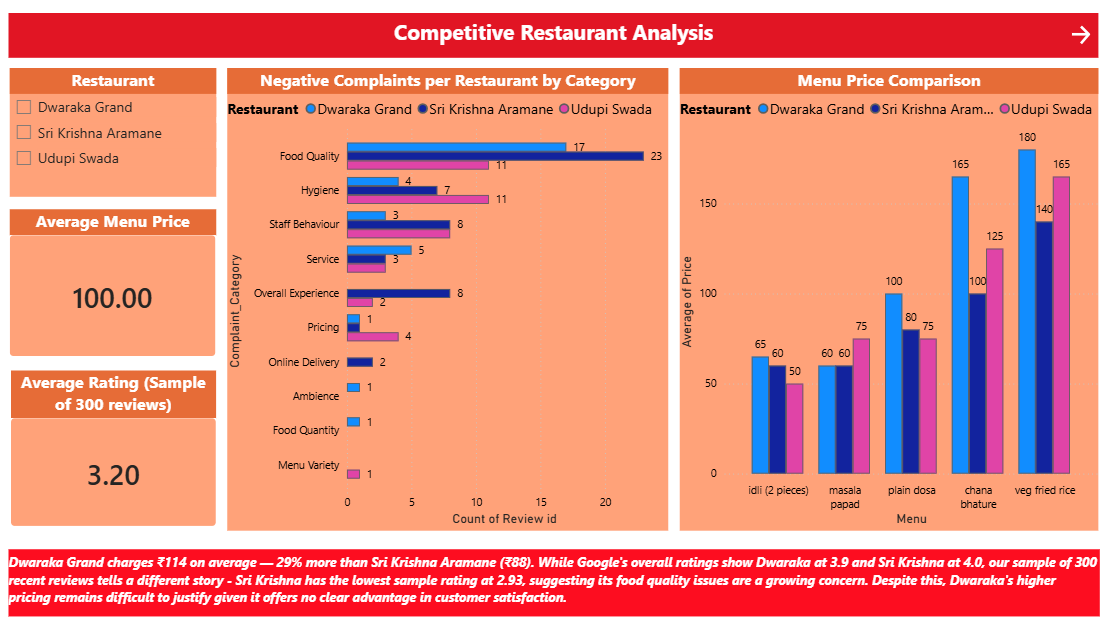

What the dashboard file says about the page in this screenshot:
{"tool":"powerbi","page":{"name":"Page 3","canvas":[1280,720],"ordinal":2},"visuals":[{"type":"slicer","title":"Restaurant","fields":{"Values":["Restaurant_lookup.Restaurant"]},"box":[15.7,80,235.7,147.1],"z":0},{"type":"clusteredColumnChart","title":"Menu Price Comparison ","fields":{"Category":["Menu.Menu"],"Series":["Menu.Restaurant"],"Y":["Avg(Menu.Price)"]},"box":[781.4,80,478.6,528.6],"z":1000},{"type":"textbox","box":[14.3,17.1,1245.7,51.4],"z":2000},{"type":"clusteredBarChart","title":"Negative Complaints per Restaurant by Category","fields":{"Category":["Review.Complaint_Category"],"Y":["Count(Review.Review id)"],"Series":["Review.Restaurant"]},"box":[264.3,80,504.3,528.6],"z":3000},{"type":"actionButton","box":[1224.3,27.1,37.1,30],"z":4000},{"type":"textbox","box":[14.3,630,1247.1,77.1],"z":5000},{"type":"cardVisual","title":"Average Menu Price","fields":{"Data":["Avg(Menu.Price)"]},"box":[15.7,241.4,235.7,172.9],"z":6000},{"type":"cardVisual","title":"Average Rating (Sample of 300 reviews)","fields":{"Data":["Review.Overall_rating"]},"box":[17.1,425.7,234.3,182.9],"z":7000}]}

Visuals, with their boxes in screenshot pixels (x1, y1, x2, y2), scaled from the page's 1280x720 canvas onto the 1110x622 screenshot:
"Restaurant" slicer: select_region(14, 69, 218, 196)
"Menu Price Comparison " clusteredColumnChart: select_region(678, 69, 1093, 526)
textbox: select_region(12, 15, 1093, 59)
"Negative Complaints per Restaurant by Category" clusteredBarChart: select_region(229, 69, 667, 526)
actionButton: select_region(1062, 23, 1094, 49)
textbox: select_region(12, 544, 1094, 611)
"Average Menu Price" cardVisual: select_region(14, 209, 218, 358)
"Average Rating (Sample of 300 reviews)" cardVisual: select_region(15, 368, 218, 526)
